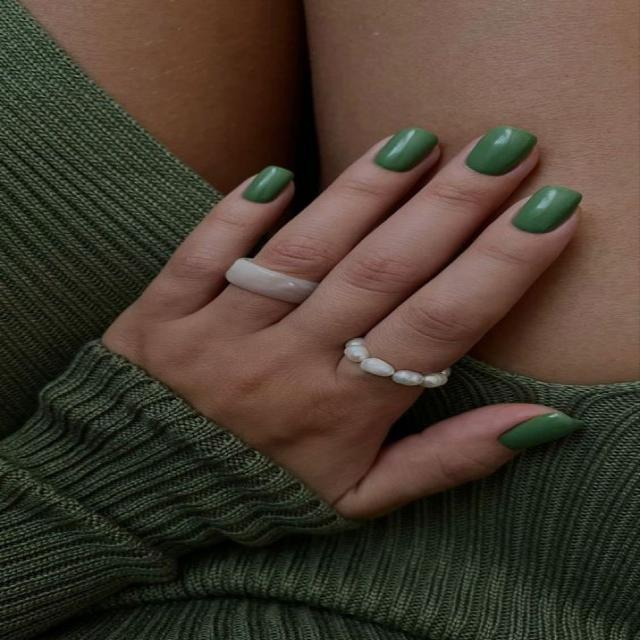Fingernail: (514, 185, 585, 235), (465, 127, 537, 176), (501, 414, 581, 455), (376, 129, 439, 172), (245, 167, 294, 204)
